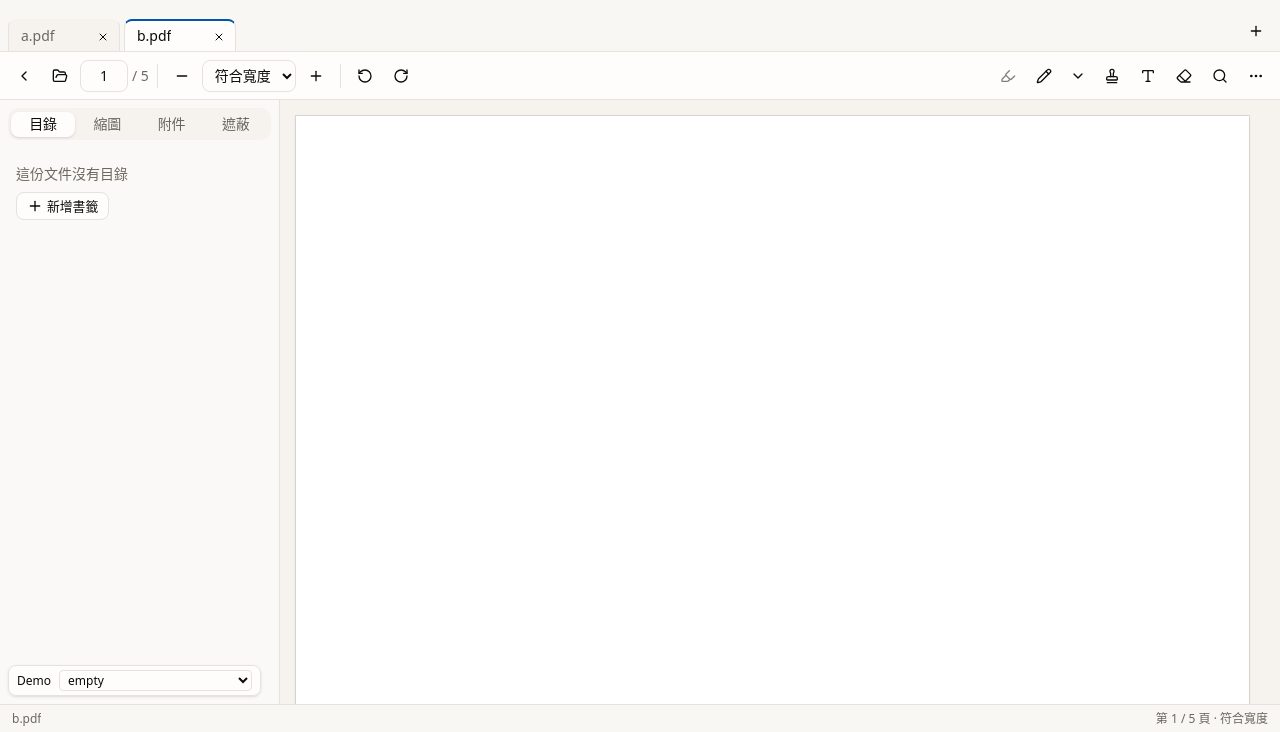
Scenario: App › keeps several documents in tabs and switches between them
Check: the footer shows "b.pdf", box x1=12 y1=710 x2=42 y2=726
Click the tab "a.pdf" at coordinates (64, 36), box x1=9 y1=21 x2=119 y2=51
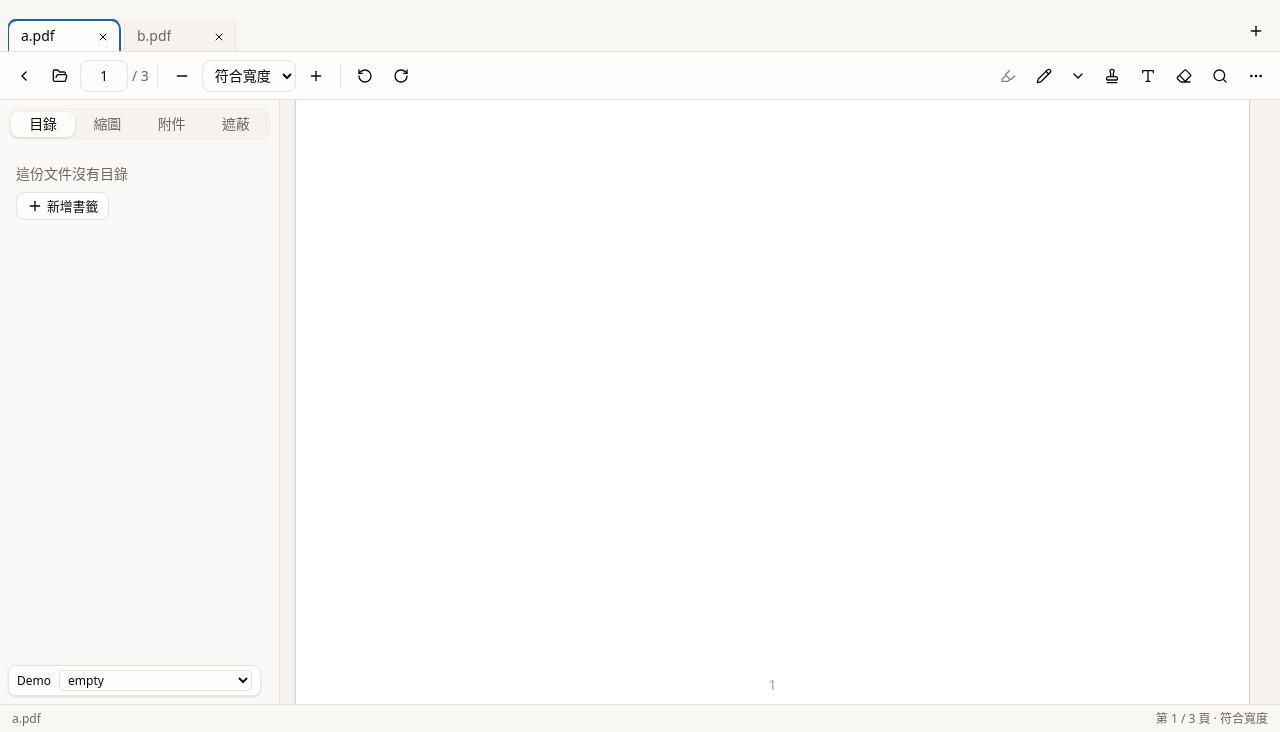
Check: the footer shows "a.pdf", box x1=12 y1=710 x2=41 y2=726
Check: the footer shows "1 / 3", box x1=1156 y1=710 x2=1268 y2=726
Type keys "{Control>}{Tab}{/Control}"
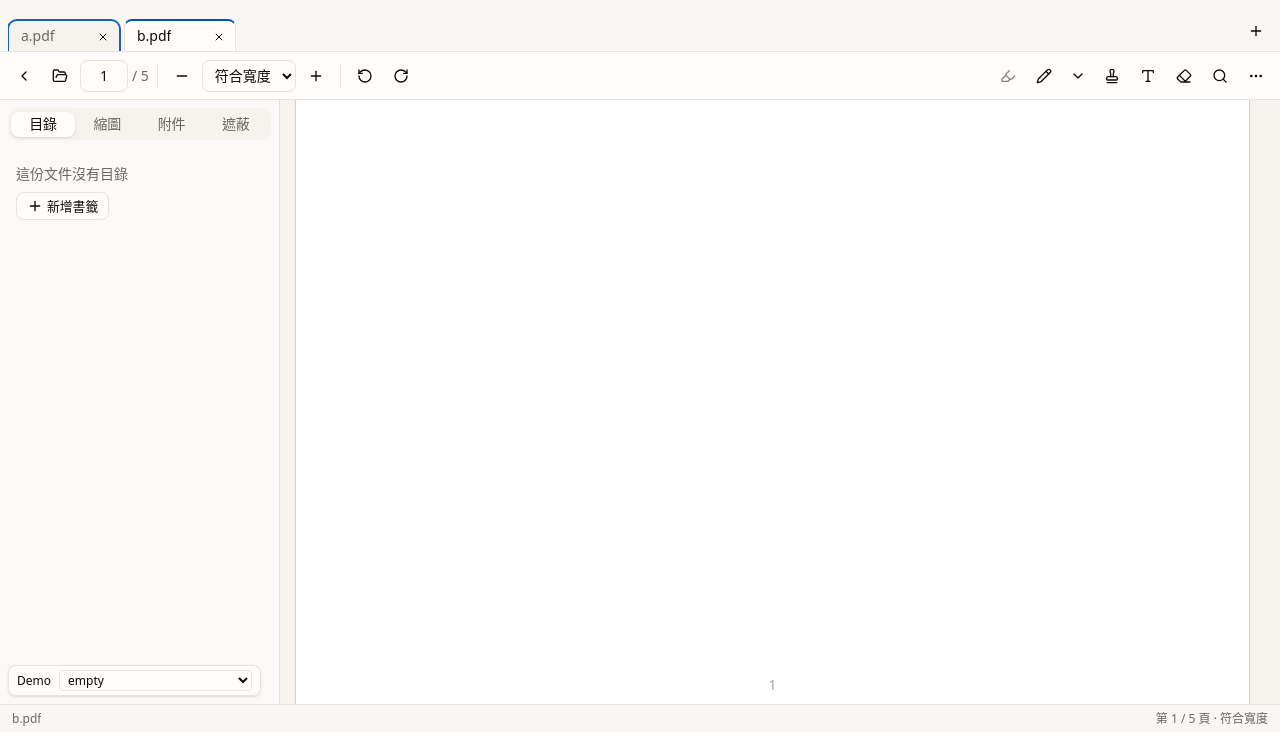
Check: the footer shows "b.pdf", box x1=12 y1=710 x2=42 y2=726
Type keys "{Control>}{Shift>}{Tab}{/Shift}{/Control}"
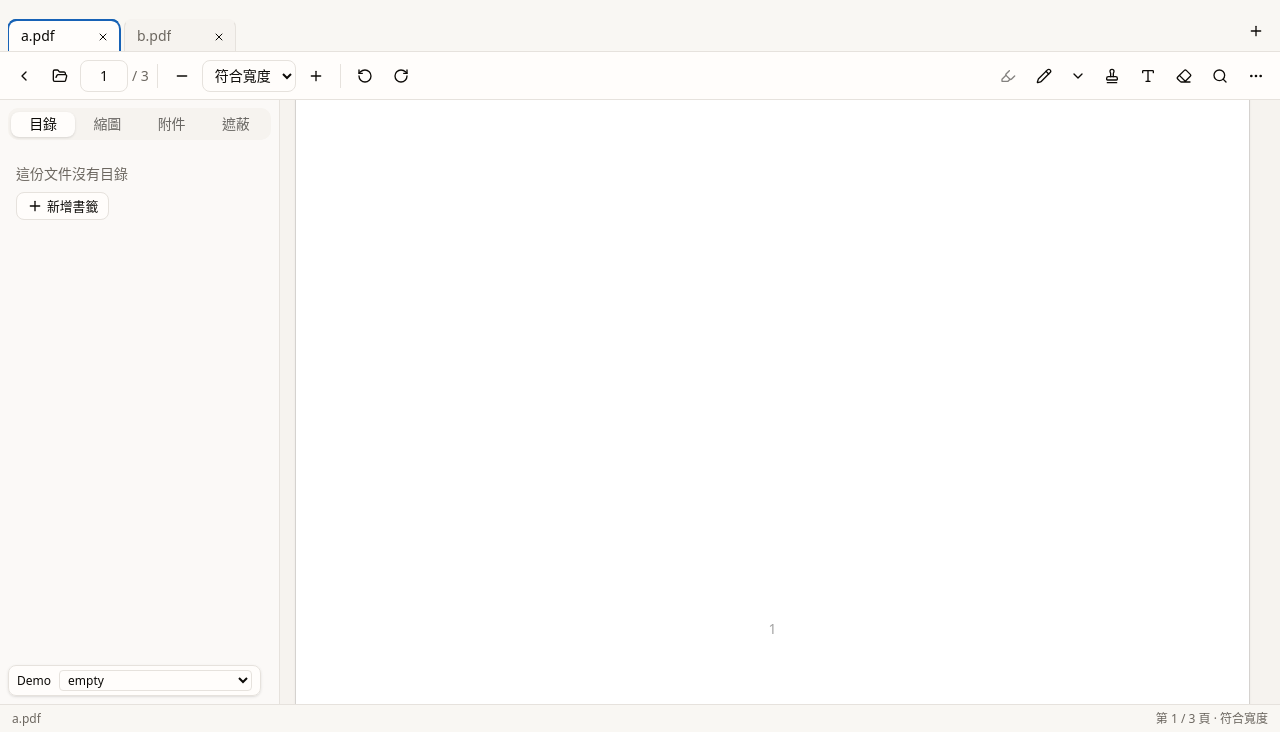
Check: the footer shows "a.pdf", box x1=12 y1=710 x2=41 y2=726
